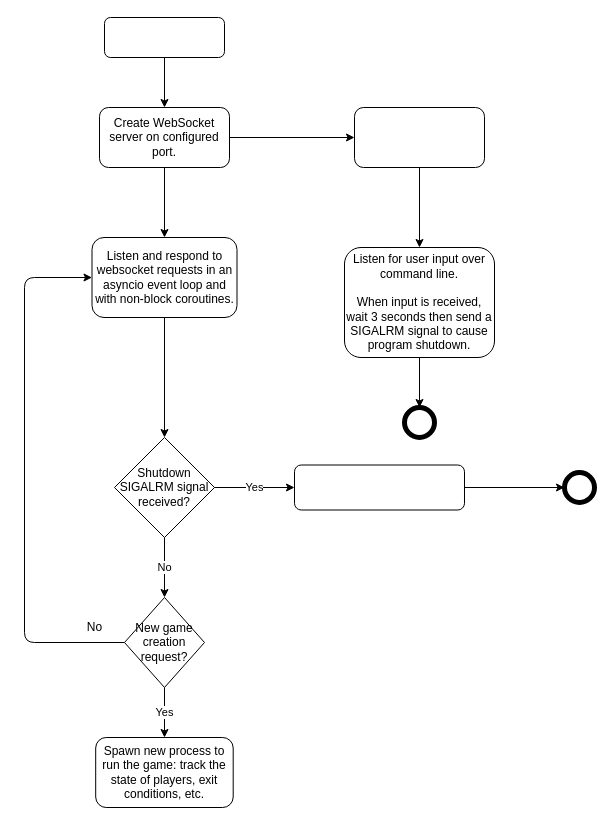
The diagram is 614 pixels wide and 825 high, and some of its shapes have lost their labels. Each missing label, with the centre of its shape:
"Initialization" goes at point (164, 37).
"Shutdown all running game processes and exit event loop." goes at point (379, 487).
"Spawn new thread." goes at point (419, 137).
